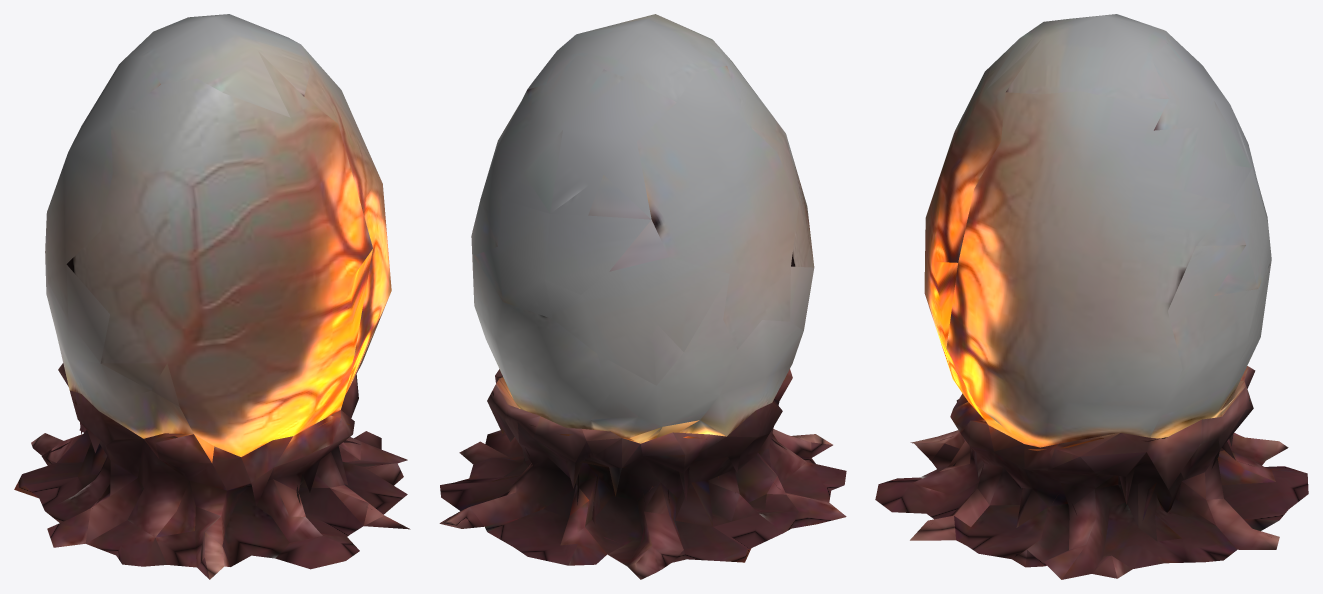
File: enemy_egg.glb
The picture shows the model from 3 angles, left to right: view 1: azimuth 30°, elevation 25°; view 2: azimuth 150°, elevation 25°; view 3: azimuth 270°, elevation 25°; orthographic projection. The views are drawn at different scales.
Parts seen in each view (by area): view 1: enemy_egg; view 2: enemy_egg; view 3: enemy_egg.
Boxes of the visible parts, x1=… form: enemy_egg: x1=14, y1=14, x2=410, y2=579; enemy_egg: x1=439, y1=14, x2=846, y2=579; enemy_egg: x1=875, y1=14, x2=1308, y2=579.
Size of the model in its own units: 0.7978 by 1 by 0.8202.
Materials: 1 (1 with a texture image).
